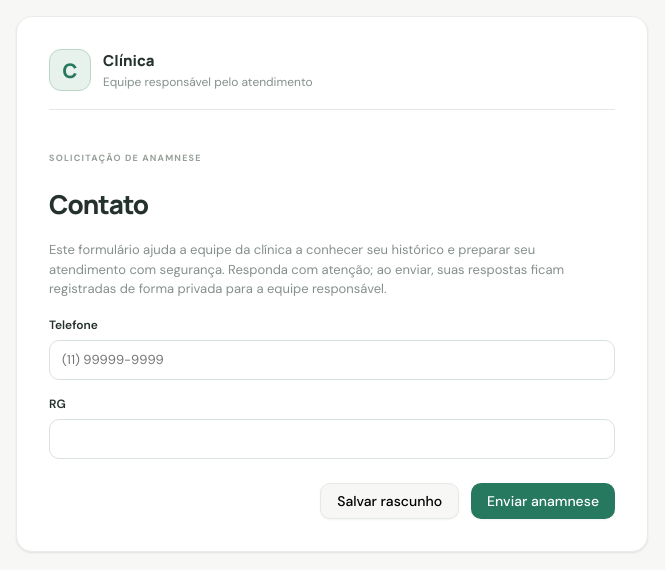
Field types › masks phone and keeps only digits in numeric fields on the public form
In the field labelled "Telefone": point(332, 360) [49,340,615,380], type "11987654321"
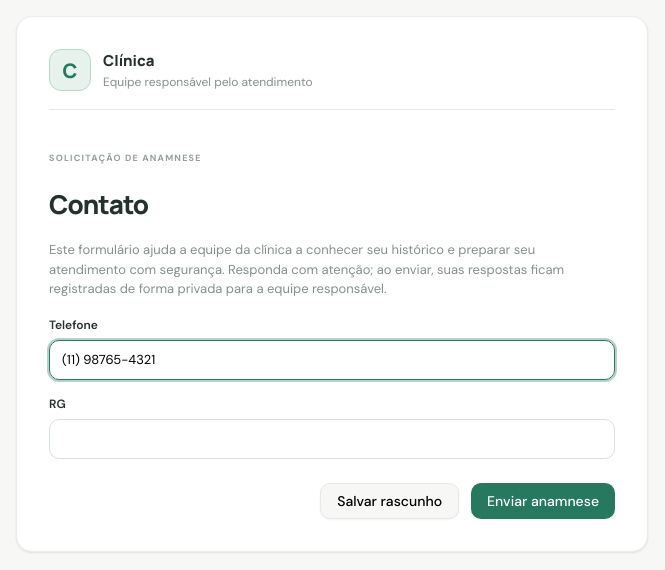
In the field labelled "RG": point(332, 438) [49,418,615,458], type "12.3a4-5"
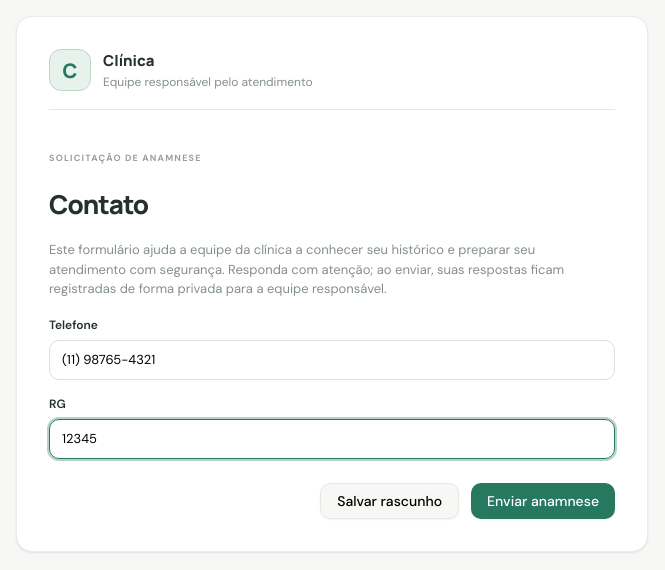
Result: the field labelled "Telefone" holds "(11) 98765-4321" at [49,340,615,380]
Result: the field labelled "RG" holds "12345" at [49,418,615,458]
